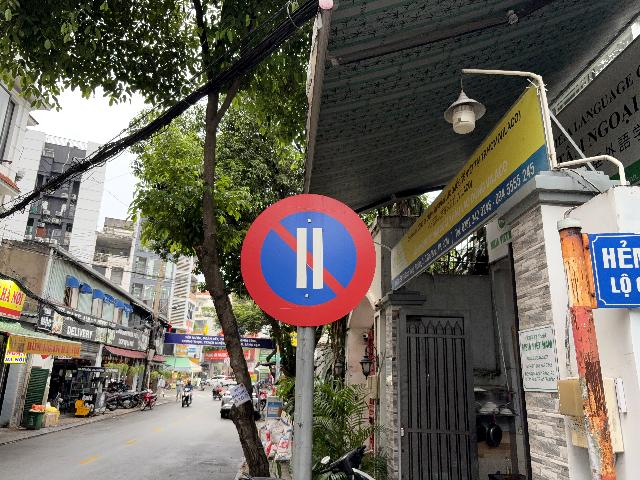cam-do-xe-ngay-chan: (240, 194, 378, 327)
